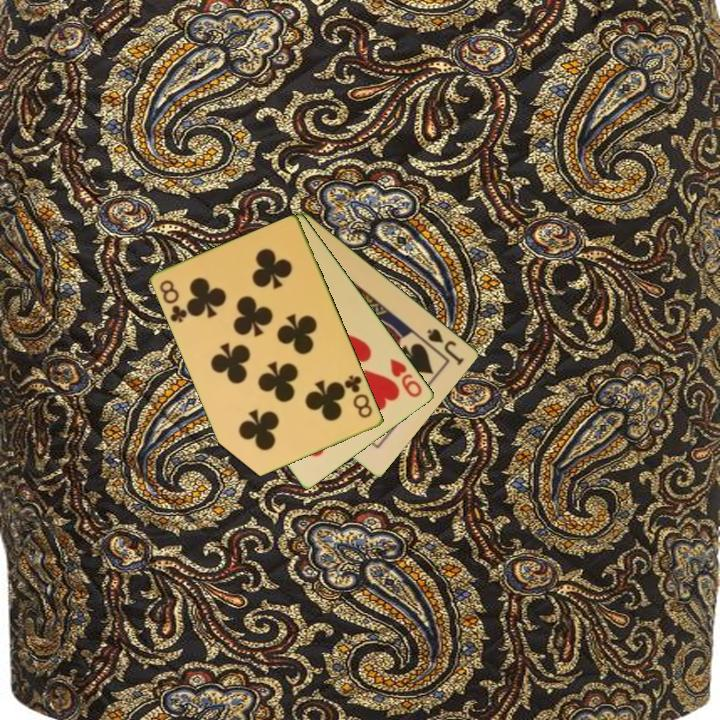8c: (341, 371, 376, 421), (156, 276, 191, 326)
9h: (387, 355, 425, 401)
Js: (424, 325, 467, 368)
